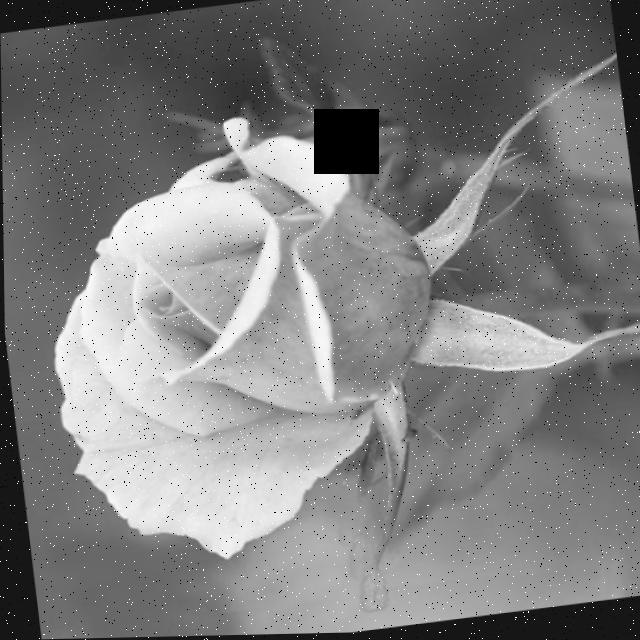rose: (7, 81, 554, 556)
